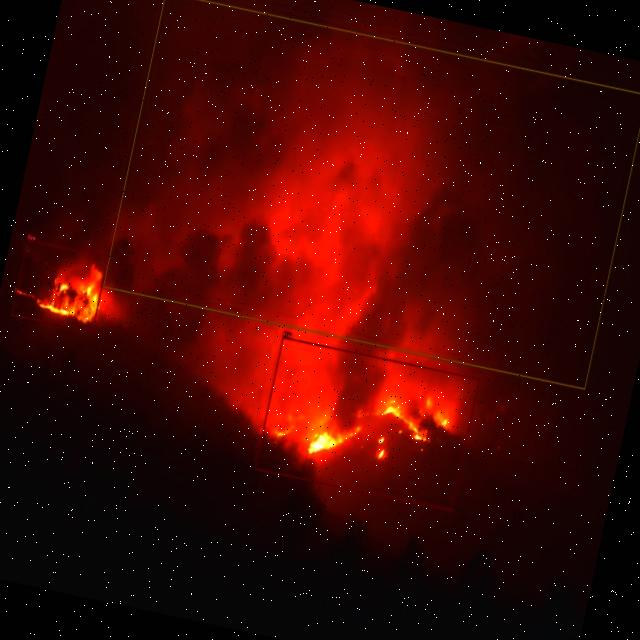fire: (253, 336, 480, 511), (10, 238, 109, 333)
smoke: (102, 0, 640, 389)
